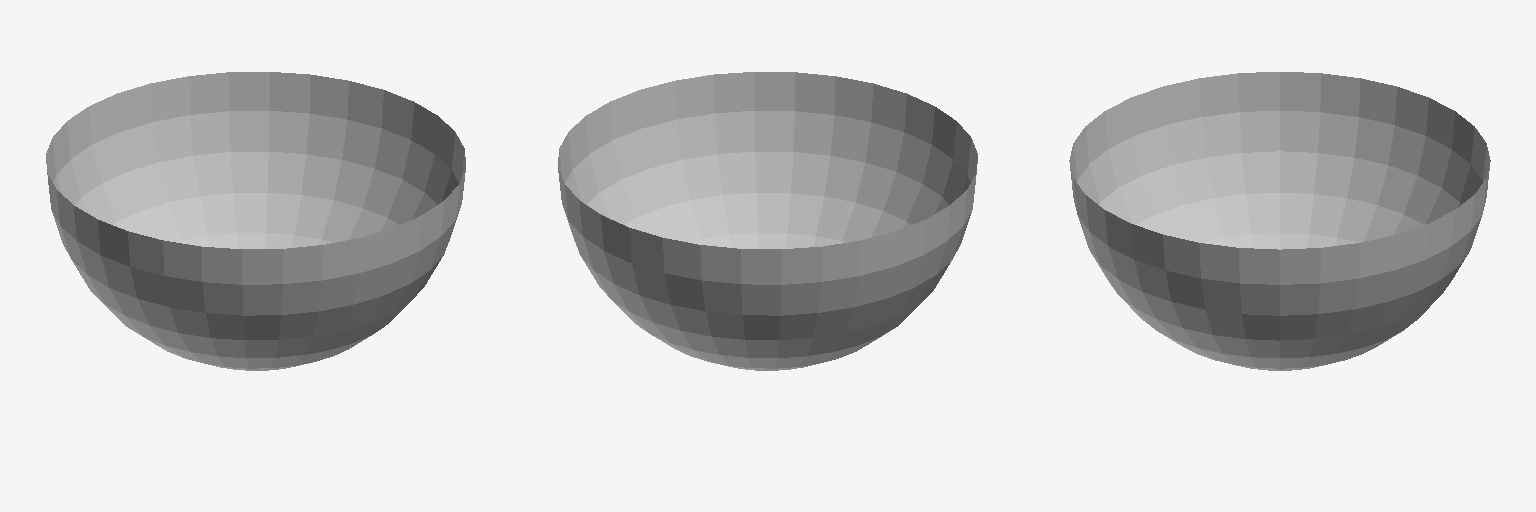
Rendered from sphere_hull.obj.
3 renders of one model, left to right at view 1: azimuth 30°, elevation 25°; view 2: azimuth 150°, elevation 25°; view 3: azimuth 270°, elevation 25°, orthographic.
Parts seen in each view (by area): view 1: Sphere; view 2: Sphere; view 3: Sphere.
Boxes of the visible parts, x1=… form: Sphere: x1=46, y1=72, x2=465, y2=370; Sphere: x1=558, y1=72, x2=977, y2=370; Sphere: x1=1069, y1=72, x2=1490, y2=370.
Bounding box in the file's own units: 2 × 1 × 2.